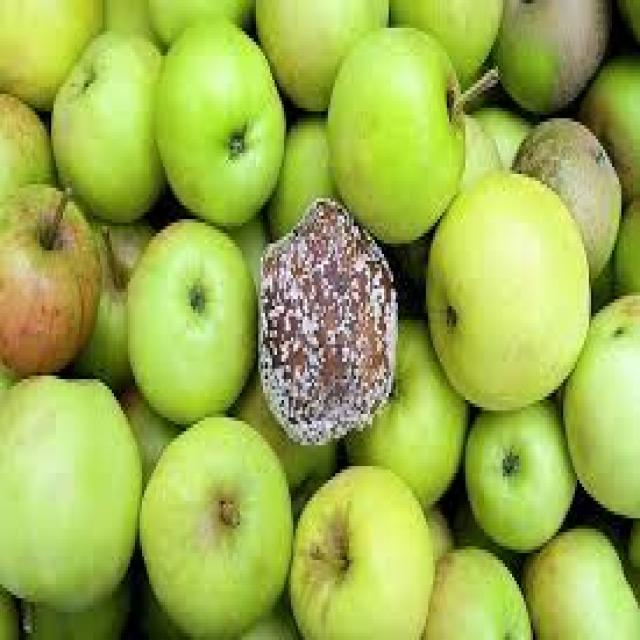organic waste: (421, 167, 591, 403), (324, 25, 498, 244), (0, 372, 137, 633), (254, 195, 396, 435), (137, 414, 289, 636), (124, 216, 258, 417), (156, 11, 282, 219), (286, 459, 433, 637), (46, 28, 170, 216), (342, 313, 463, 504), (0, 178, 98, 372), (510, 111, 619, 282), (463, 393, 575, 550), (561, 292, 638, 518), (67, 219, 156, 397), (249, 0, 391, 108), (519, 518, 638, 637), (228, 372, 338, 498), (491, 0, 610, 108), (0, 0, 102, 108), (419, 542, 528, 636), (137, 574, 296, 636), (263, 111, 340, 230), (577, 49, 638, 198), (114, 382, 189, 490), (389, 0, 498, 73), (0, 584, 130, 636), (144, 0, 254, 42), (0, 90, 49, 181), (474, 101, 530, 170), (456, 108, 501, 188), (218, 219, 268, 282), (610, 191, 638, 296), (449, 487, 494, 546), (102, 0, 154, 42), (589, 240, 614, 317), (421, 501, 454, 556), (619, 514, 638, 608), (621, 0, 638, 52)
